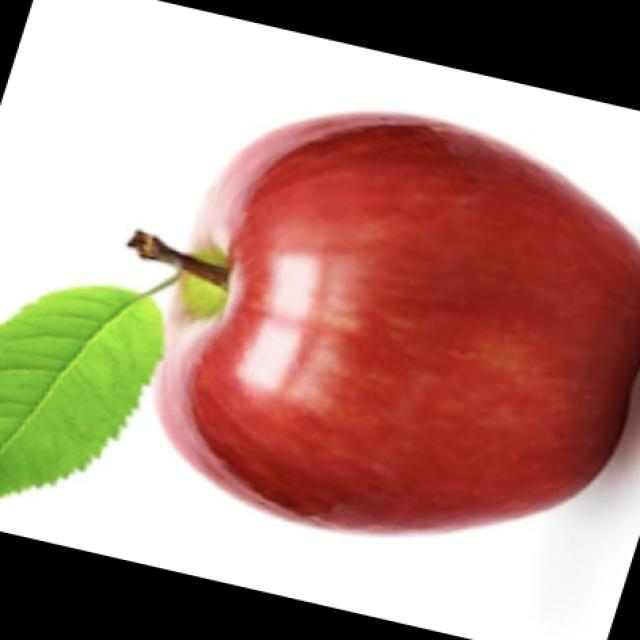Fresh Apple: (206, 120, 640, 515)
